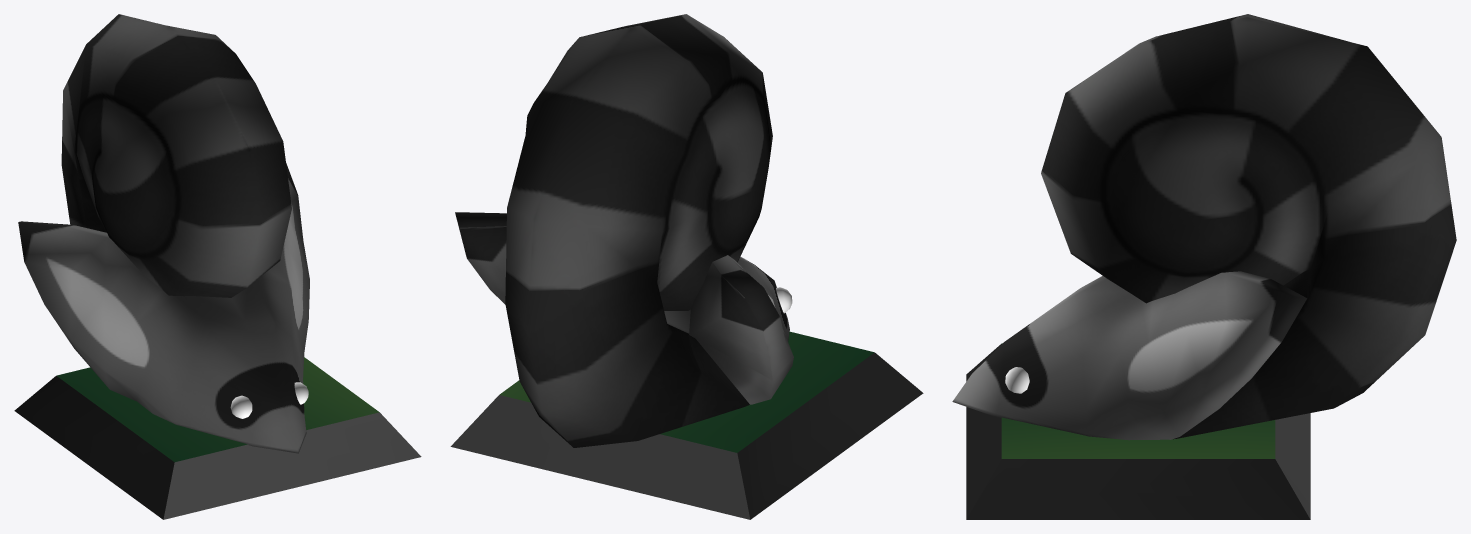
The model's file is SkweekMini.fbx.
3 views of the same model, side by side, from view 1: azimuth 30°, elevation 25°; view 2: azimuth 150°, elevation 25°; view 3: azimuth 270°, elevation 25° (orthographic). The views are drawn at different scales.
Visible parts, largest first — view 1: SkweekMini; view 2: SkweekMini; view 3: SkweekMini.
Boxes of the visible parts, x1,y1,x2,y2 form: SkweekMini: (14, 14, 421, 519); SkweekMini: (450, 14, 923, 519); SkweekMini: (952, 14, 1456, 519).
Bounding box in the file's own units: 1.06 × 1.38 × 1.47.
